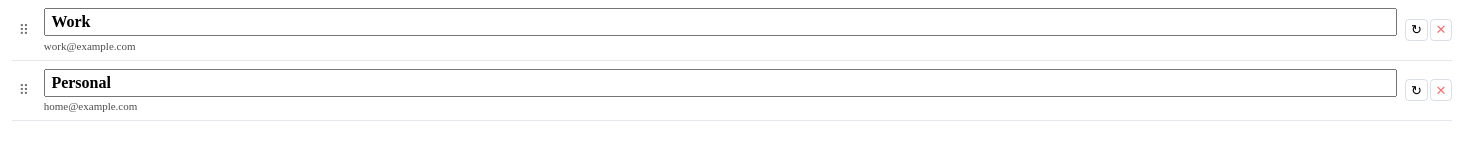
Test case: AccountList › allows only one in-flight refresh per provider and account
Click the button named "Refresh Codex account Personal".
click(1416, 90)  # box [1405,79,1428,101]
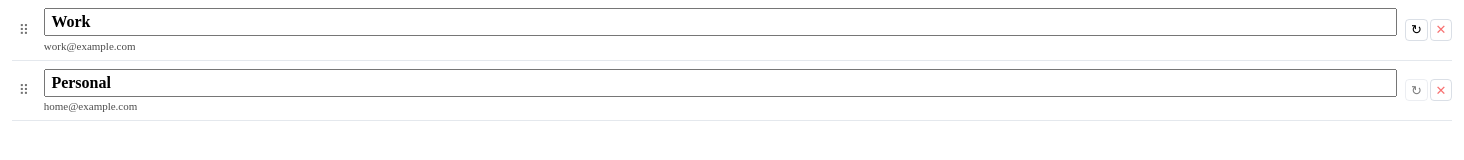
Now the button named "Refresh Codex account Personal" is disabled
Click the button named "Refresh Codex account Personal".
click(1416, 90)  # box [1405,79,1428,101]
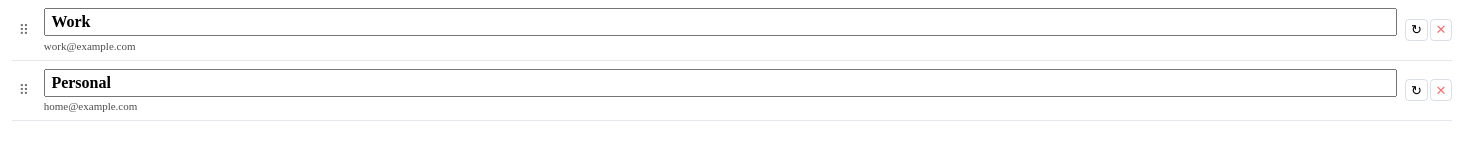
Now the button named "Refresh Codex account Personal" is enabled, box [1405,79,1428,101]
